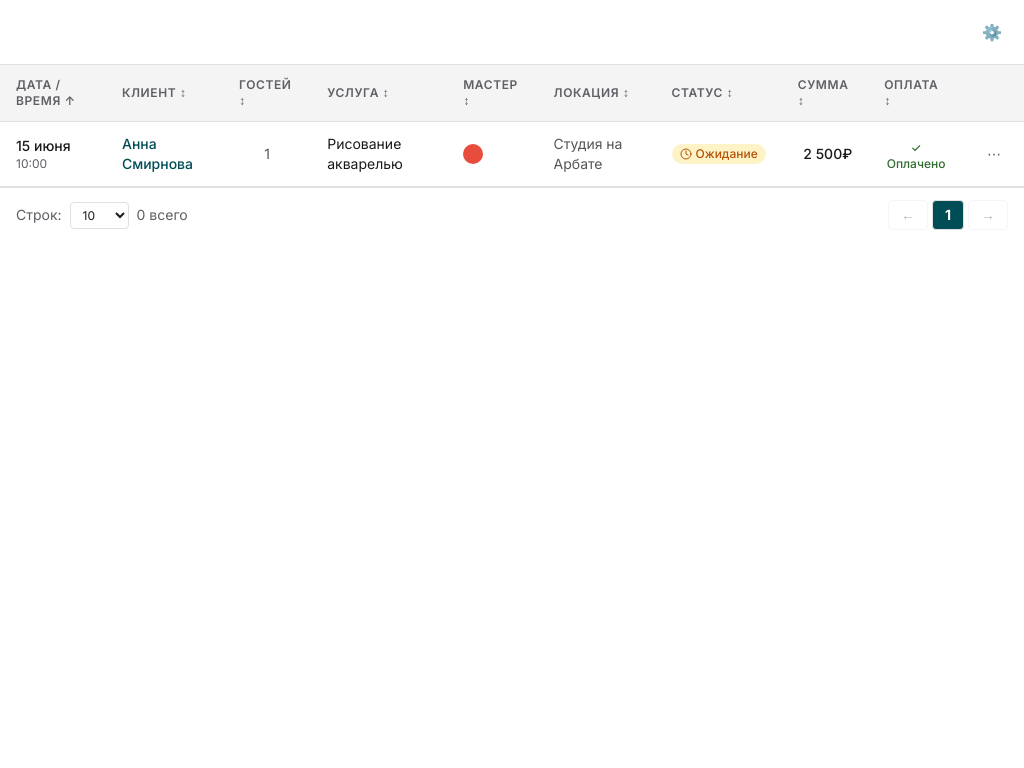
Test: RecordsTable › cancel closes the dialog without enqueuing the cascade delete
The width and height of the screenshot is (1024, 768).
Click the button named "Действия": [994, 154] box x1=980 y1=140 x2=1008 y2=168
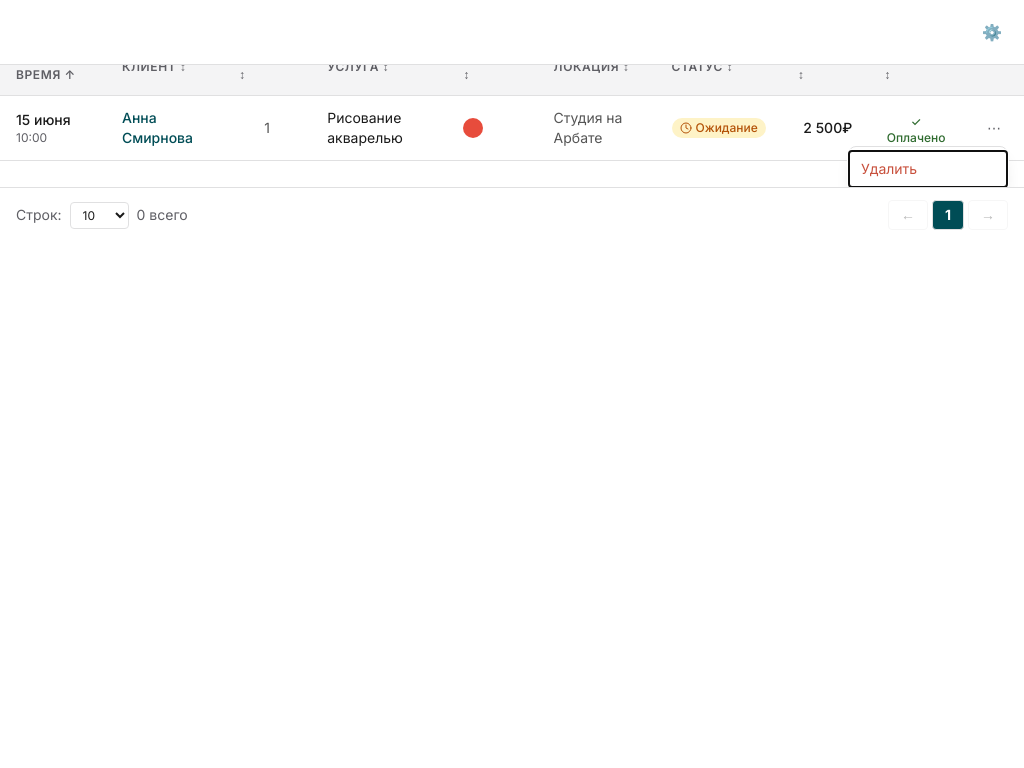
Click the menu item "Удалить": [928, 169] box x1=849 y1=151 x2=1007 y2=187
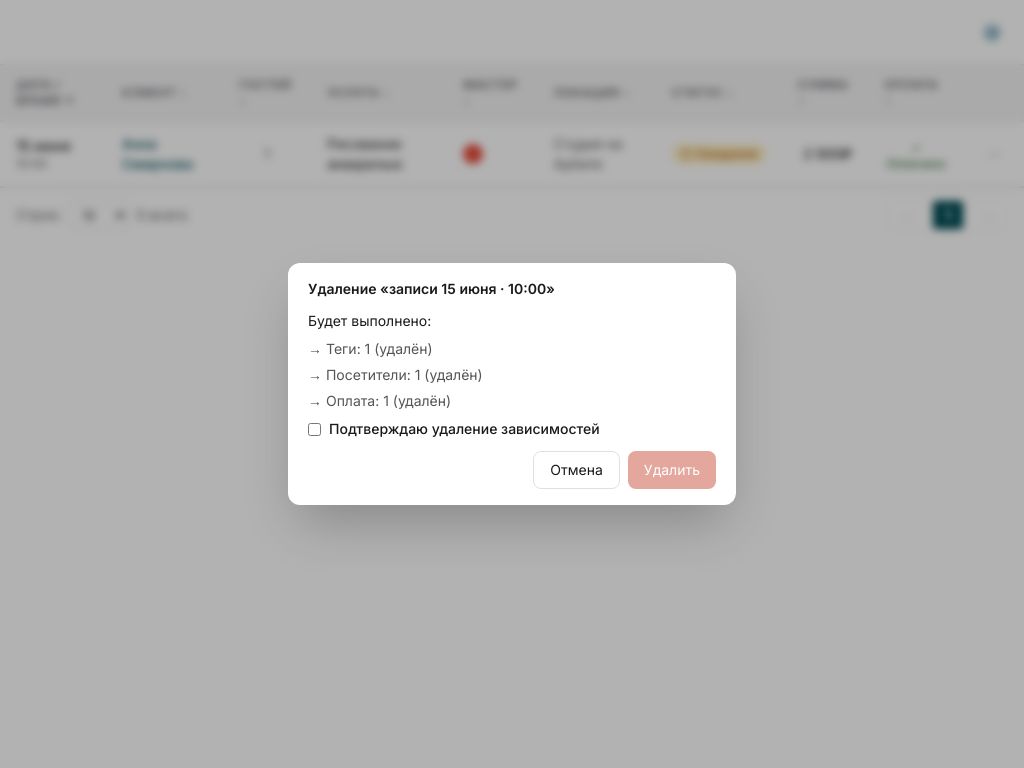
Check: the button with test id "delete-dialog-cancel-btn" is shown
Click the button with test id "delete-dialog-cancel-btn": [577, 470] box x1=533 y1=451 x2=620 y2=489
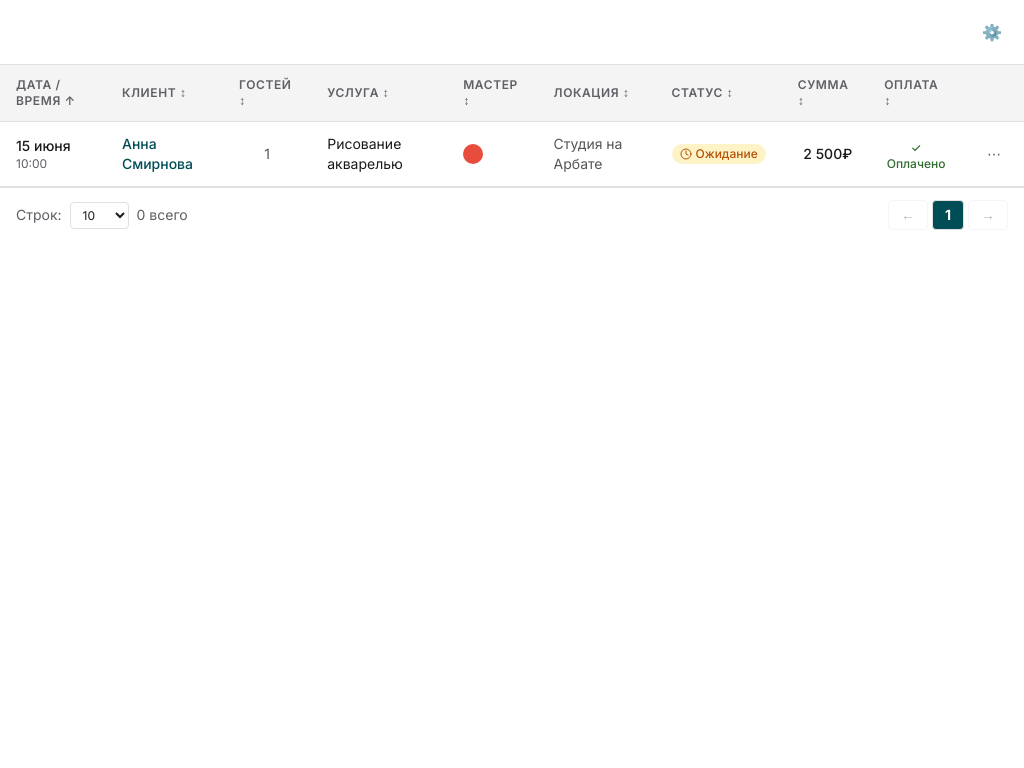
Check: the element with test id "delete-dialog" is gone
